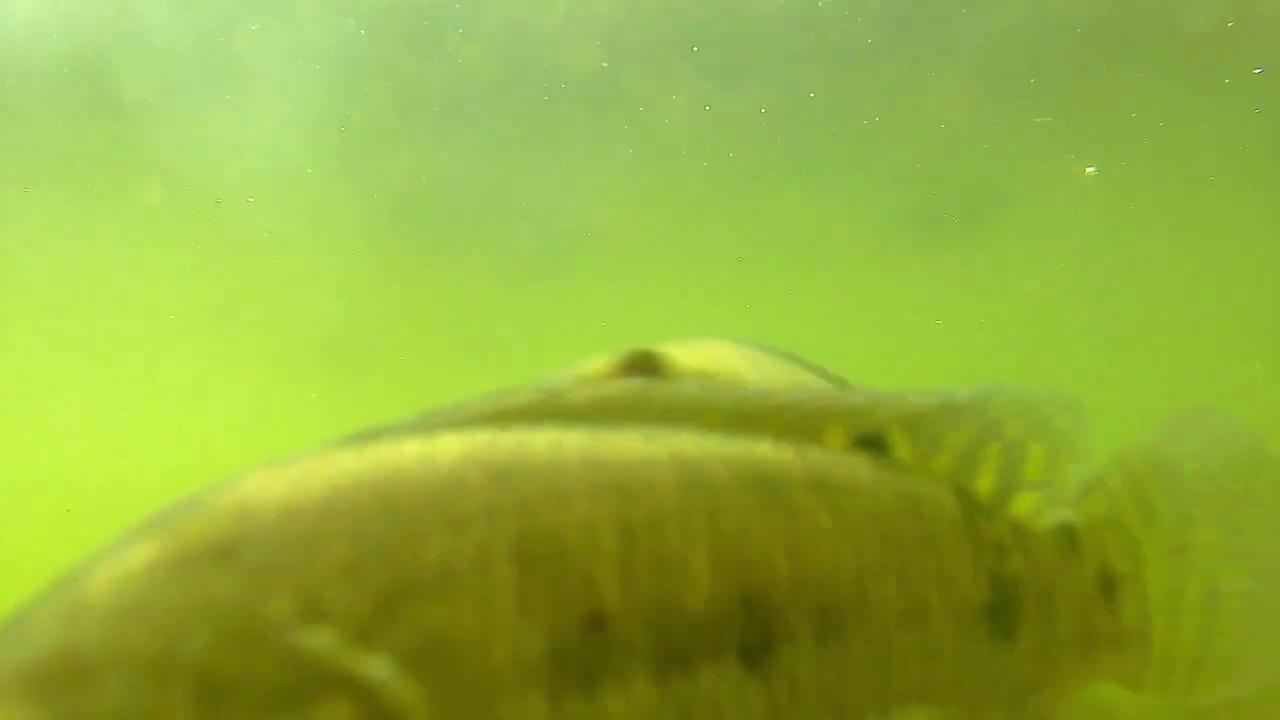Tilapia: (0, 392, 1280, 720)
